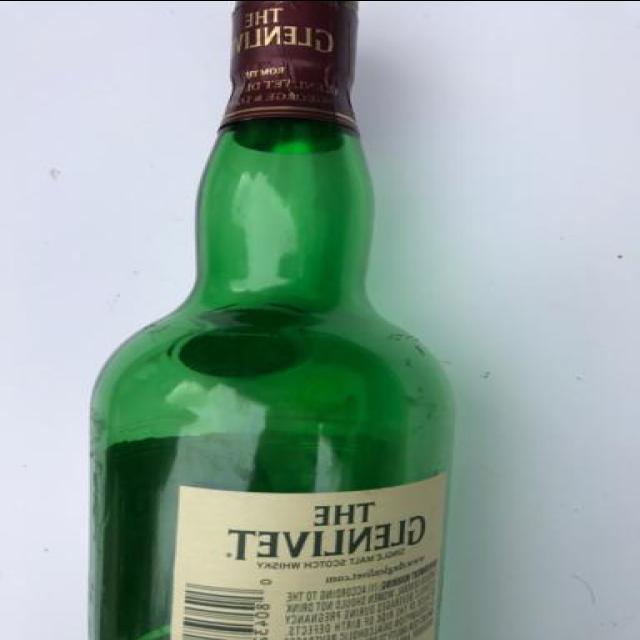glass: (86, 0, 453, 640)
